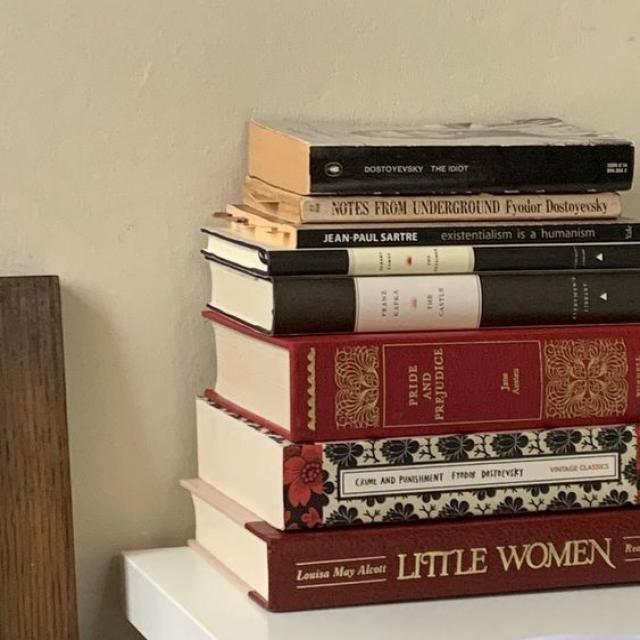book: (271, 509, 640, 614), (280, 428, 639, 529), (293, 341, 640, 424), (270, 273, 640, 323), (312, 144, 636, 190), (270, 246, 640, 272), (302, 198, 622, 216), (296, 225, 640, 241)
